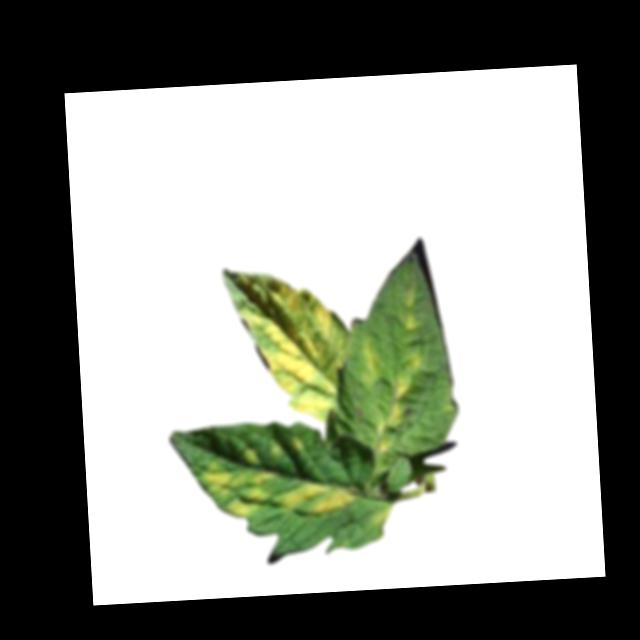Leaf_Mold: (233, 265, 350, 428), (202, 457, 277, 520), (279, 477, 356, 523), (355, 333, 382, 386), (385, 372, 412, 423), (371, 420, 393, 454), (371, 505, 394, 527), (406, 347, 423, 372), (290, 434, 309, 453), (403, 311, 420, 330)
